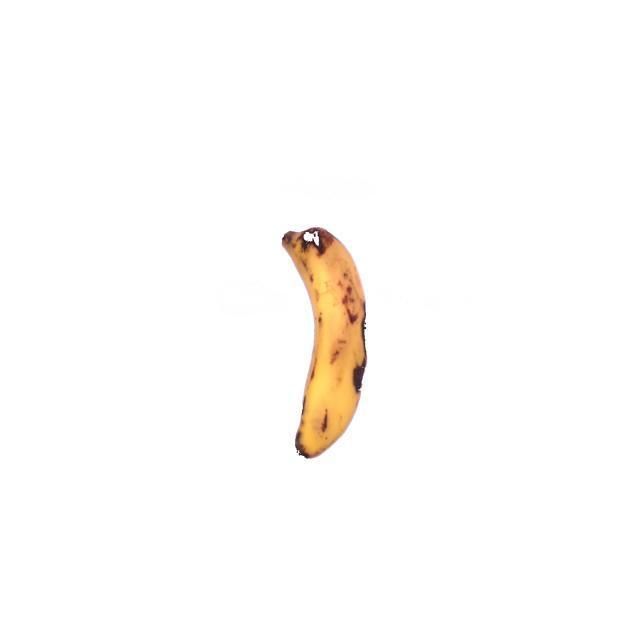Banana: (278, 223, 369, 462)
